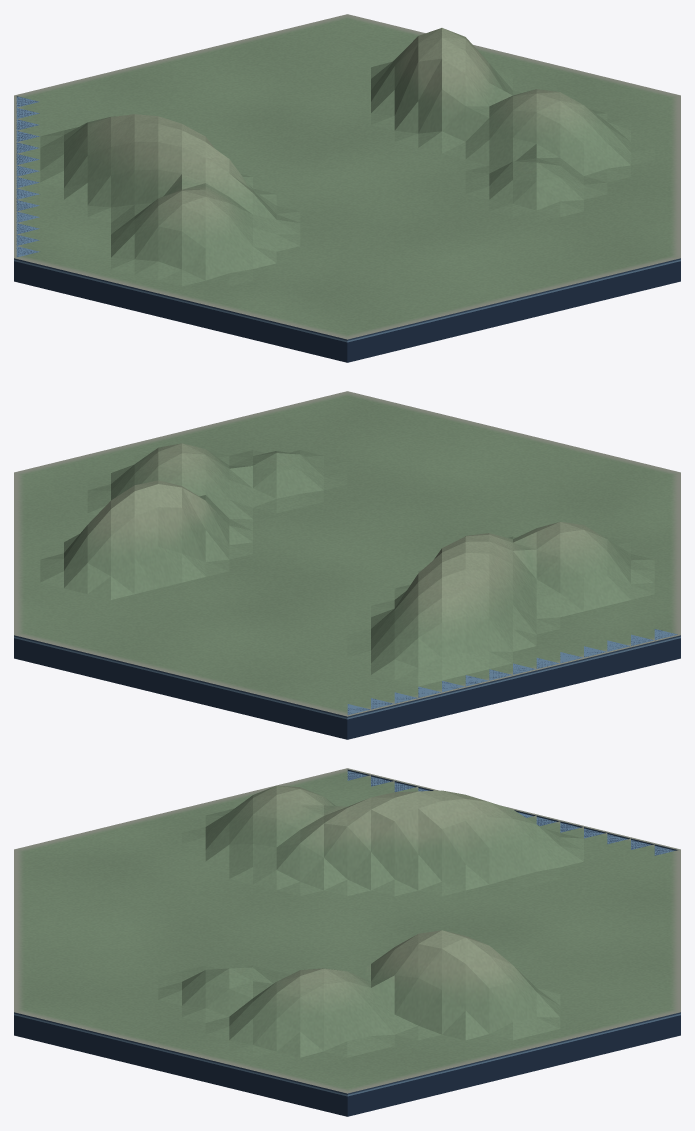
File: campus_tile_hill_v01.glb
3 views of the same model, one above another, from view 1: azimuth 30°, elevation 25°; view 2: azimuth 150°, elevation 25°; view 3: azimuth 270°, elevation 25° (orthographic).
Visible parts, largest first — view 1: campus_tile_hill; view 2: campus_tile_hill; view 3: campus_tile_hill.
Boxes of the visible parts, left/top/right/bottom form: campus_tile_hill: left=14, top=14, right=680, bottom=362; campus_tile_hill: left=14, top=391, right=680, bottom=739; campus_tile_hill: left=14, top=768, right=680, bottom=1116.
Size of the model in its own units: 36 by 4.8 by 31.18.
1 material, 1 textured.
